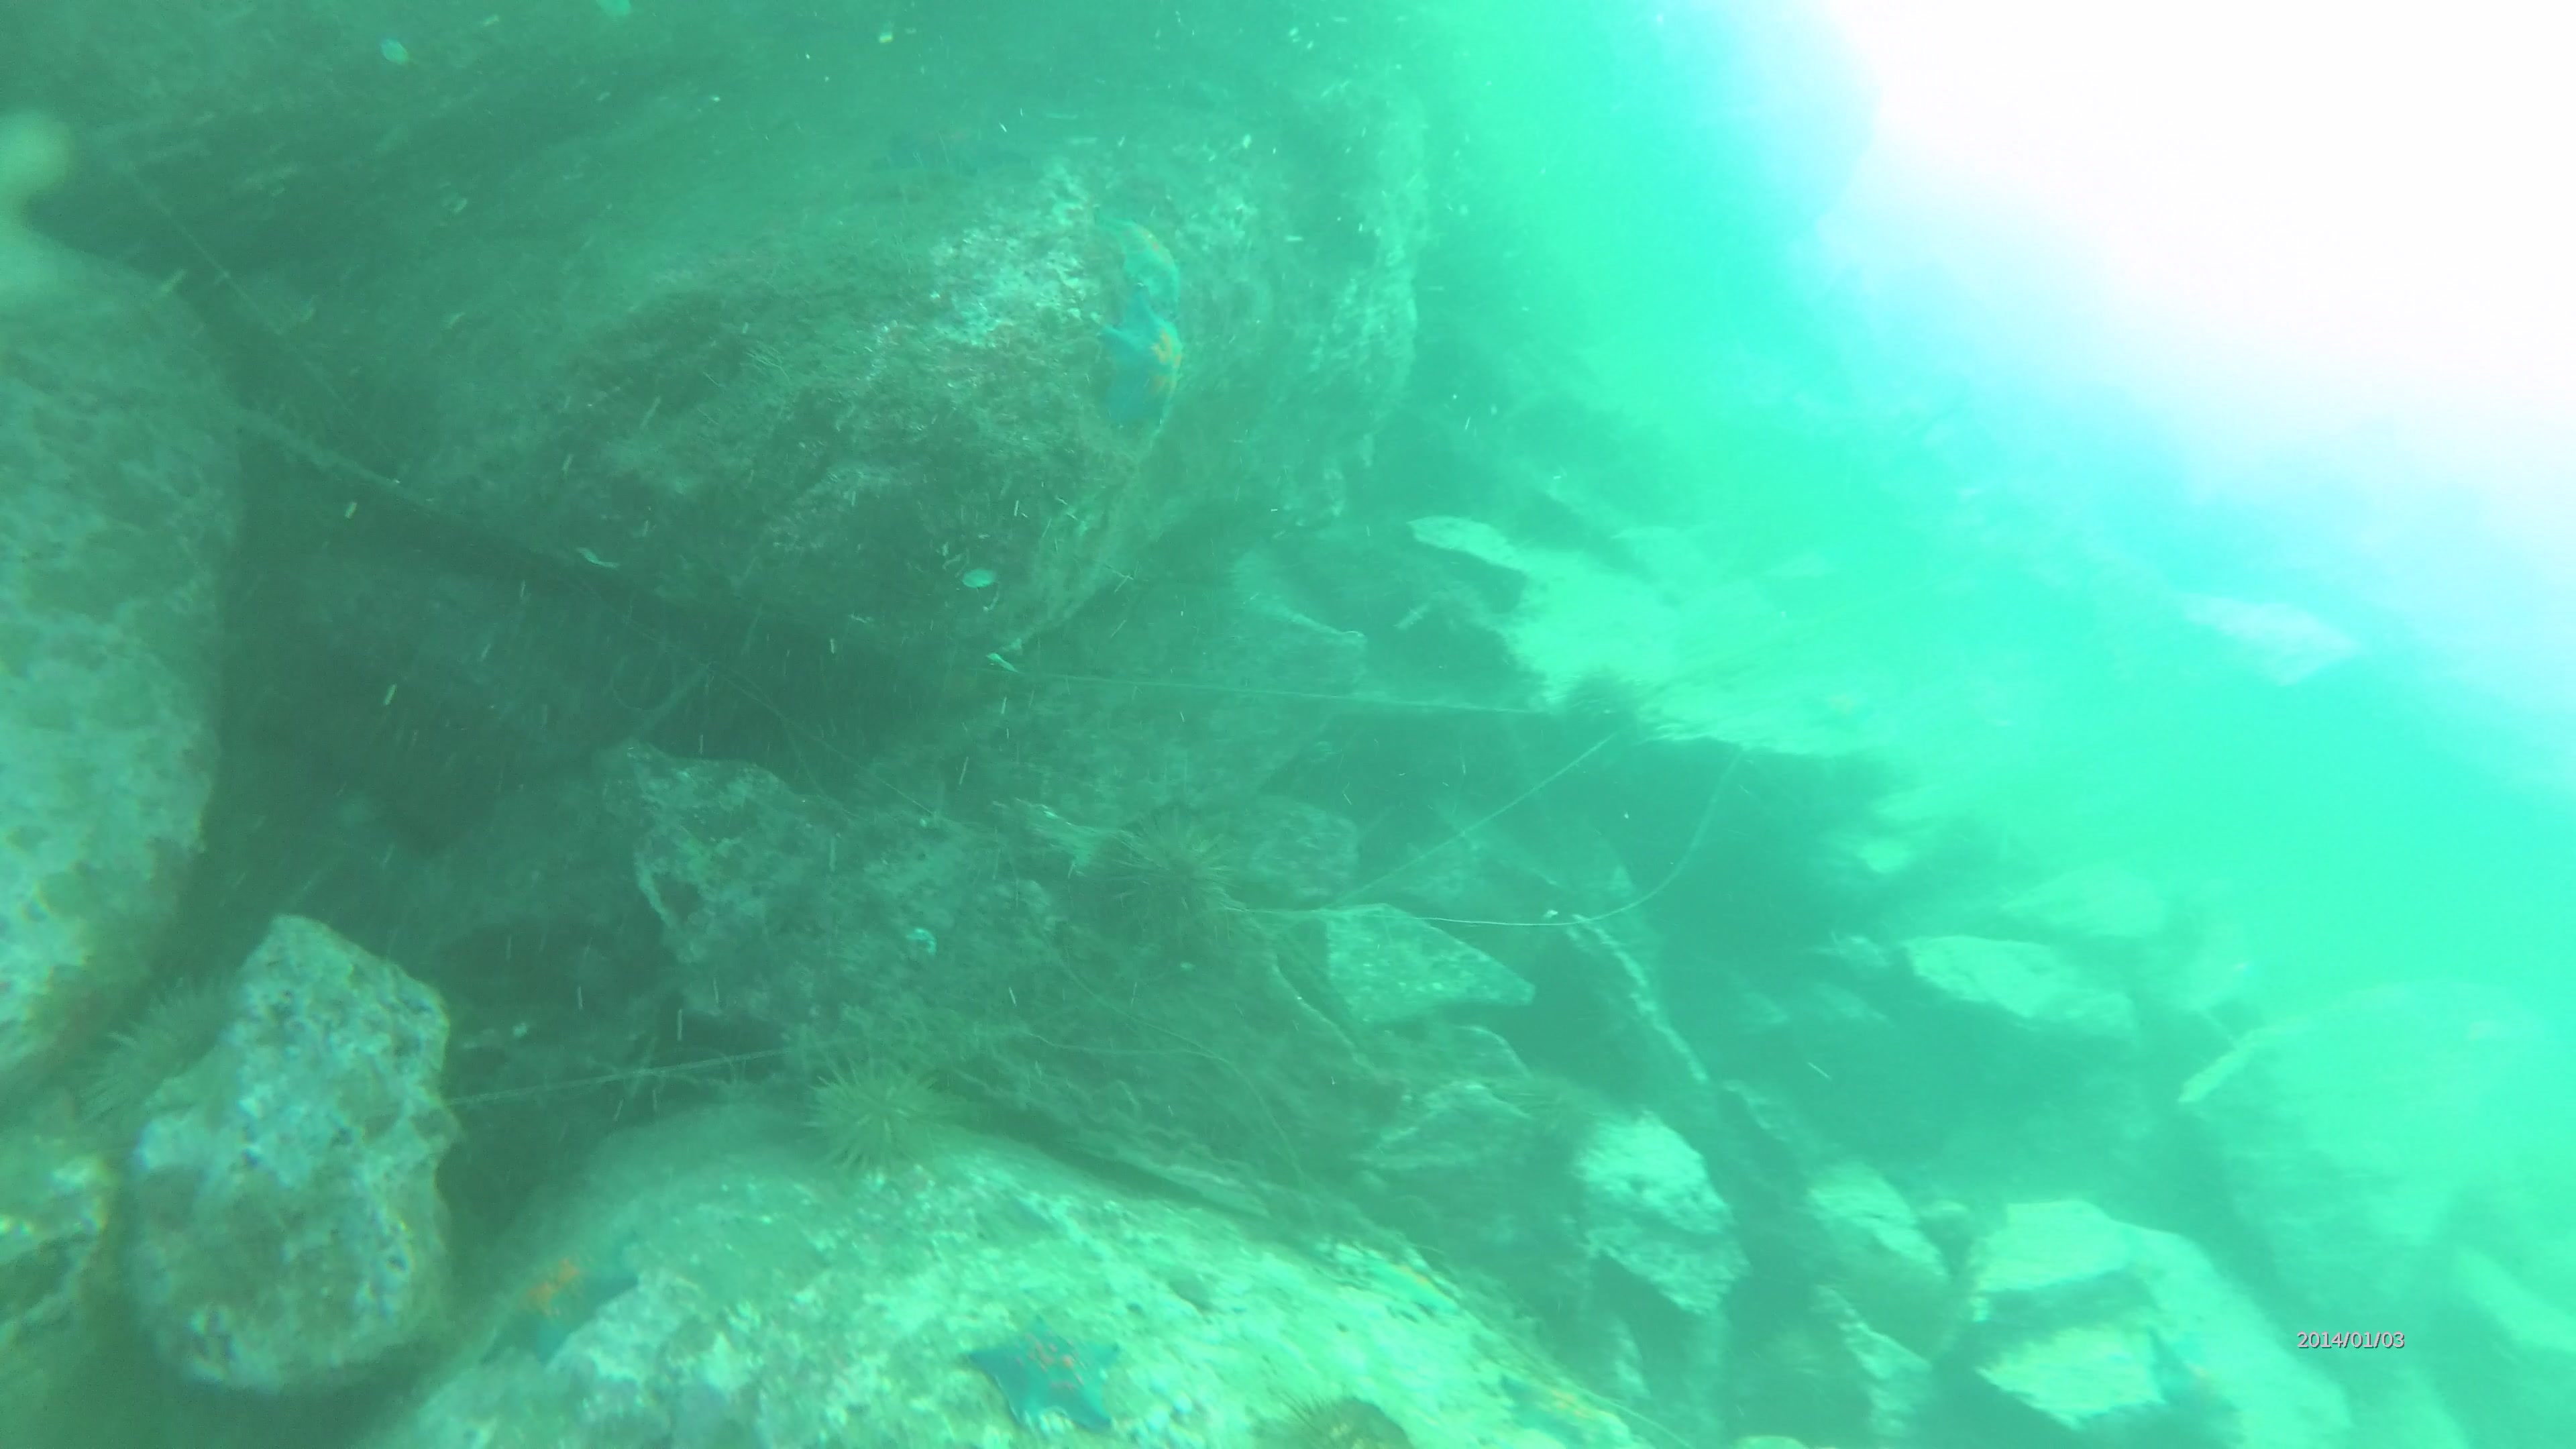echinus: (1095, 809, 1249, 957), (793, 1047, 959, 1184)
starfish: (467, 1230, 663, 1382), (954, 1311, 1138, 1449), (1483, 1355, 1711, 1449), (2143, 1307, 2273, 1430), (1092, 292, 1184, 444), (1353, 1253, 1486, 1330), (1086, 202, 1187, 303), (872, 119, 1019, 184)
